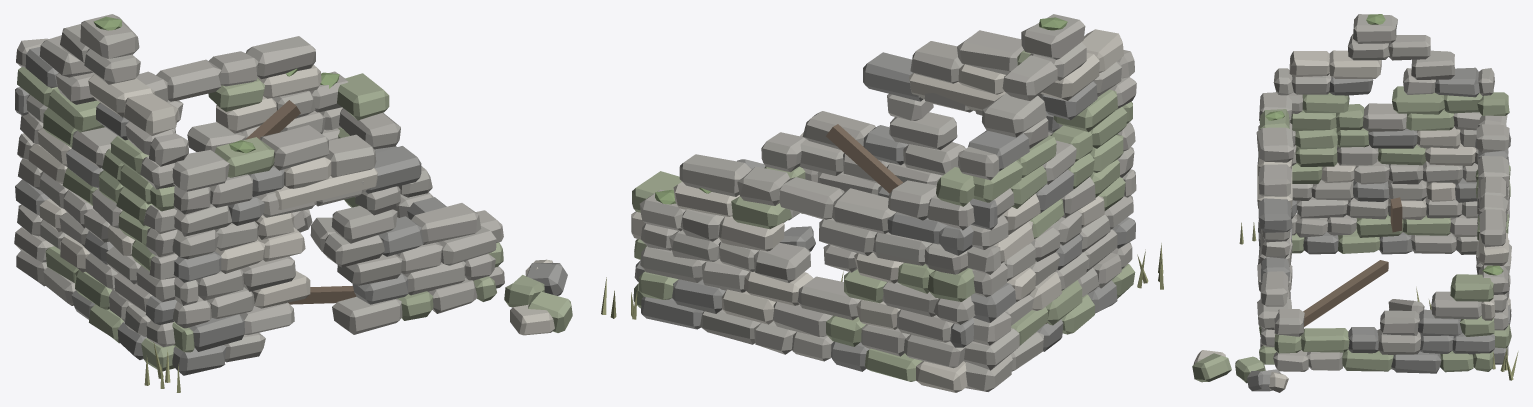
File: Ruin_House_A.fbx
3 renders of one model, left to right at view 1: azimuth 30°, elevation 25°; view 2: azimuth 150°, elevation 25°; view 3: azimuth 270°, elevation 25°, orthographic. The views are drawn at different scales.
Parts seen in each view (by area): view 1: Ruin_House_A; view 2: Ruin_House_A; view 3: Ruin_House_A.
Part boxes in pixels (x1,y1,x2,y2): Ruin_House_A: (14, 14, 572, 392); Ruin_House_A: (601, 14, 1163, 392); Ruin_House_A: (1192, 14, 1518, 392).
Bounding box in the file's own units: 6.14 × 4.43 × 5.39.
